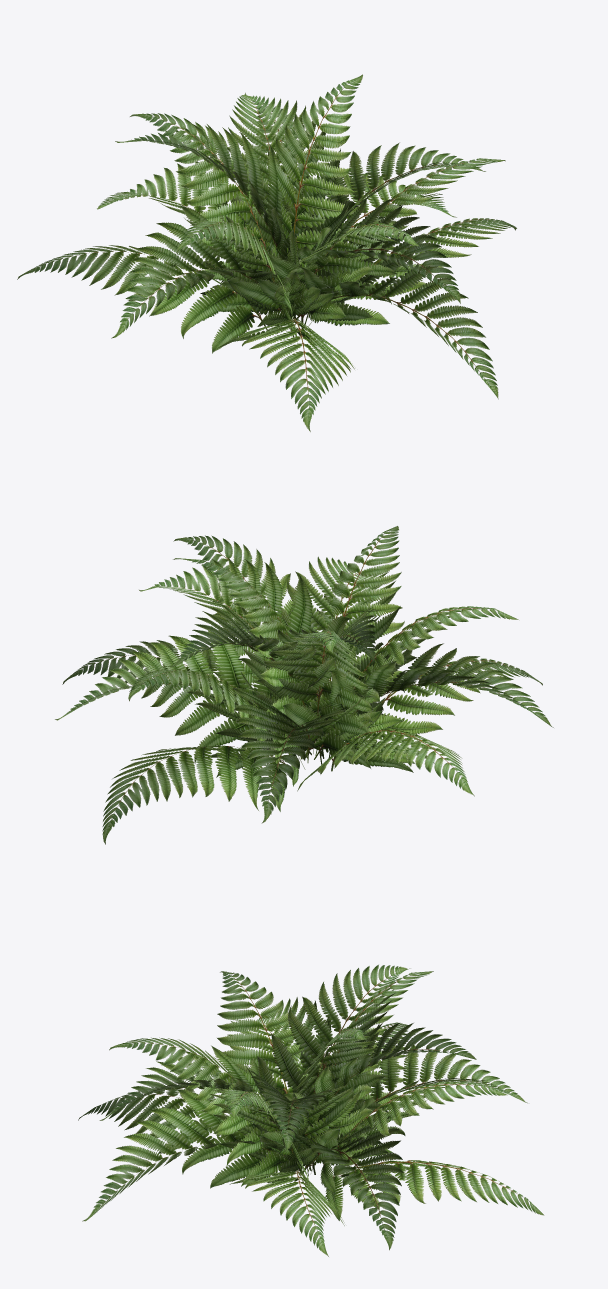
The model's file is fern_2.glb.
3 views of the same model, one above another, from view 1: azimuth 30°, elevation 25°; view 2: azimuth 150°, elevation 25°; view 3: azimuth 270°, elevation 25° (orthographic). The views are drawn at different scales.
Parts seen in each view (by area): view 1: SM_MZRa_Fern_B052_MI_MZRa_Fern_B052_0; view 2: SM_MZRa_Fern_B052_MI_MZRa_Fern_B052_0; view 3: SM_MZRa_Fern_B052_MI_MZRa_Fern_B052_0.
Part boxes in pixels (box(x1,y1,x2,y2)): SM_MZRa_Fern_B052_MI_MZRa_Fern_B052_0: box(17, 74, 516, 431); SM_MZRa_Fern_B052_MI_MZRa_Fern_B052_0: box(55, 526, 553, 844); SM_MZRa_Fern_B052_MI_MZRa_Fern_B052_0: box(78, 964, 544, 1256).
Size of the model in its own units: 2.77 by 1.43 by 2.78.
Materials: 1 (1 with a texture image).
